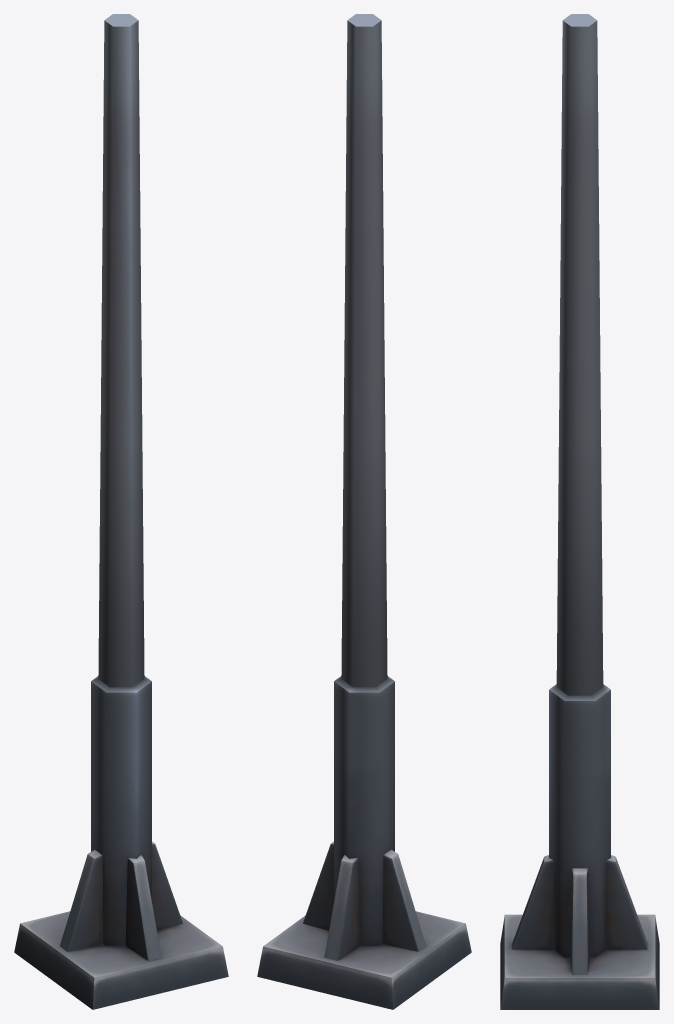
Rendered from Road_Pillar.FBX.
The picture shows the model from 3 angles, left to right: view 1: azimuth 30°, elevation 25°; view 2: azimuth 150°, elevation 25°; view 3: azimuth 270°, elevation 25°; orthographic projection.
Visible parts, largest first — view 1: Road_Pillar; view 2: Road_Pillar; view 3: Road_Pillar.
Boxes of the visible parts, box(x1,y1,x2,y2) form: Road_Pillar: box(14, 14, 228, 1009); Road_Pillar: box(257, 14, 471, 1009); Road_Pillar: box(500, 14, 659, 1009).
Size of the model in its own units: 45.23 by 300 by 45.23.
